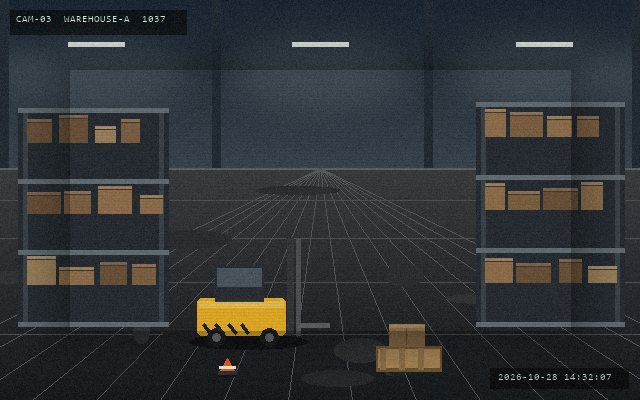cone: (217, 356, 237, 377)
forklift: (193, 235, 331, 349)
pallet: (374, 344, 443, 373)
shelf: (476, 102, 624, 322), (18, 108, 168, 322)
